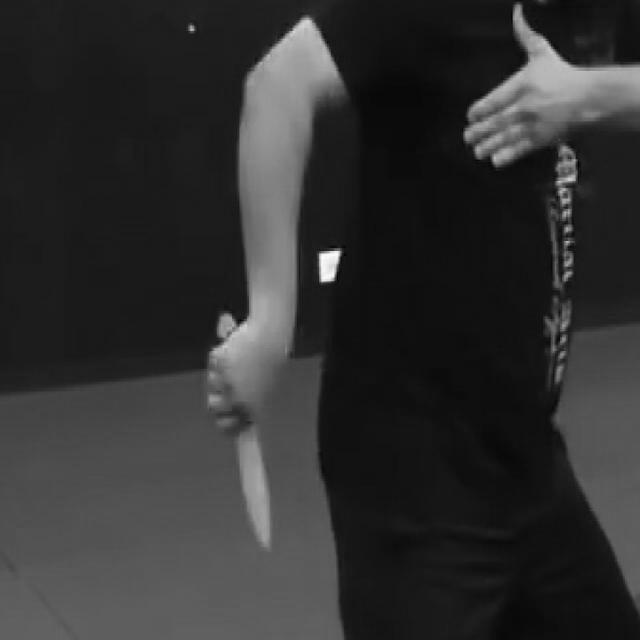weapon: (237, 425, 278, 562), (213, 309, 241, 341)
